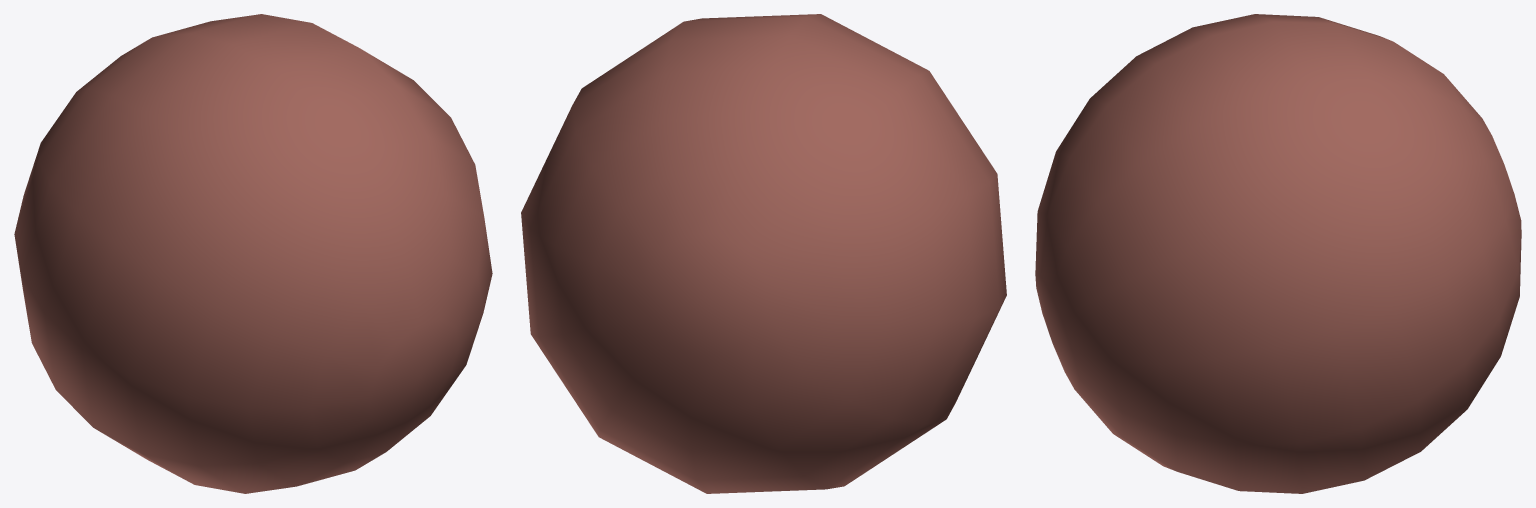
File: mixamo_humanoid_joint_leftHandRing3.fbx
3 views of the same model, side by side, from view 1: azimuth 30°, elevation 25°; view 2: azimuth 150°, elevation 25°; view 3: azimuth 270°, elevation 25° (orthographic). The views are drawn at different scales.
Visible parts, largest first — view 1: joint_LeftHandRing3; view 2: joint_LeftHandRing3; view 3: joint_LeftHandRing3.
Boxes of the visible parts, box(x1,y1,x2,y2) form: joint_LeftHandRing3: box(14, 14, 492, 493); joint_LeftHandRing3: box(521, 14, 1006, 493); joint_LeftHandRing3: box(1035, 14, 1521, 493).
Size of the model in its own units: 1.7 by 1.69 by 1.69.
